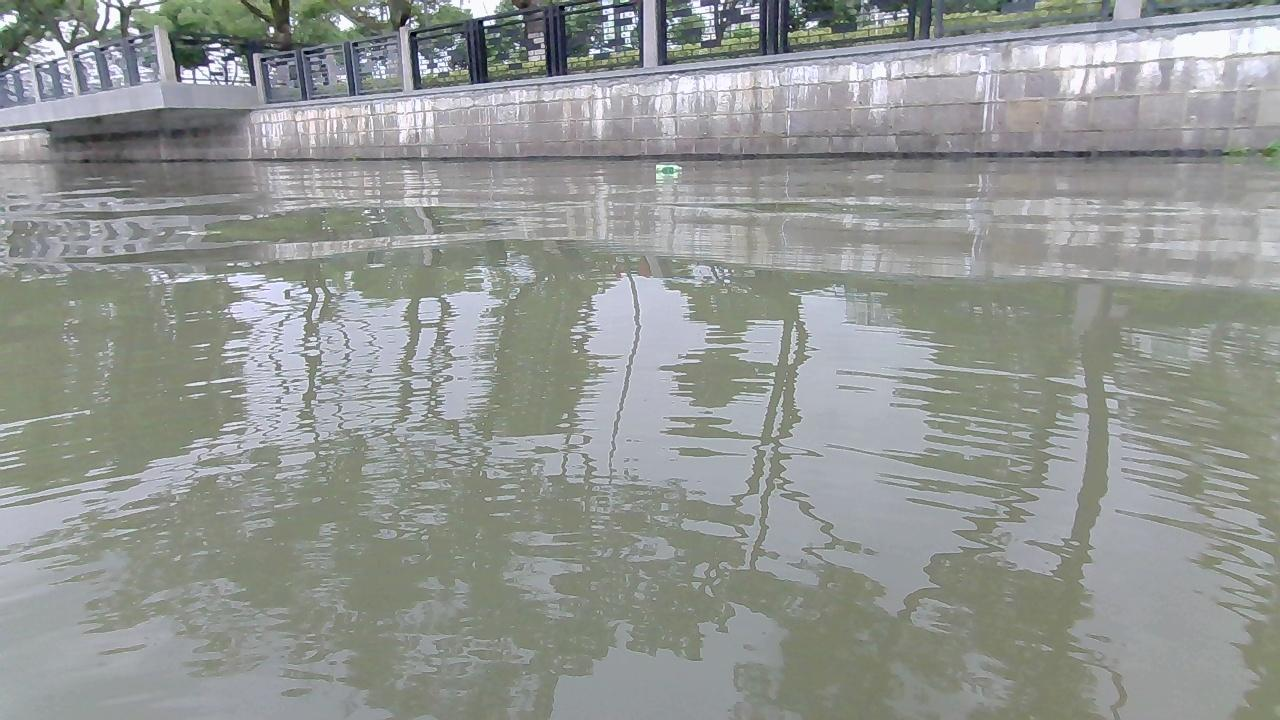bottle: (652, 161, 682, 174)
